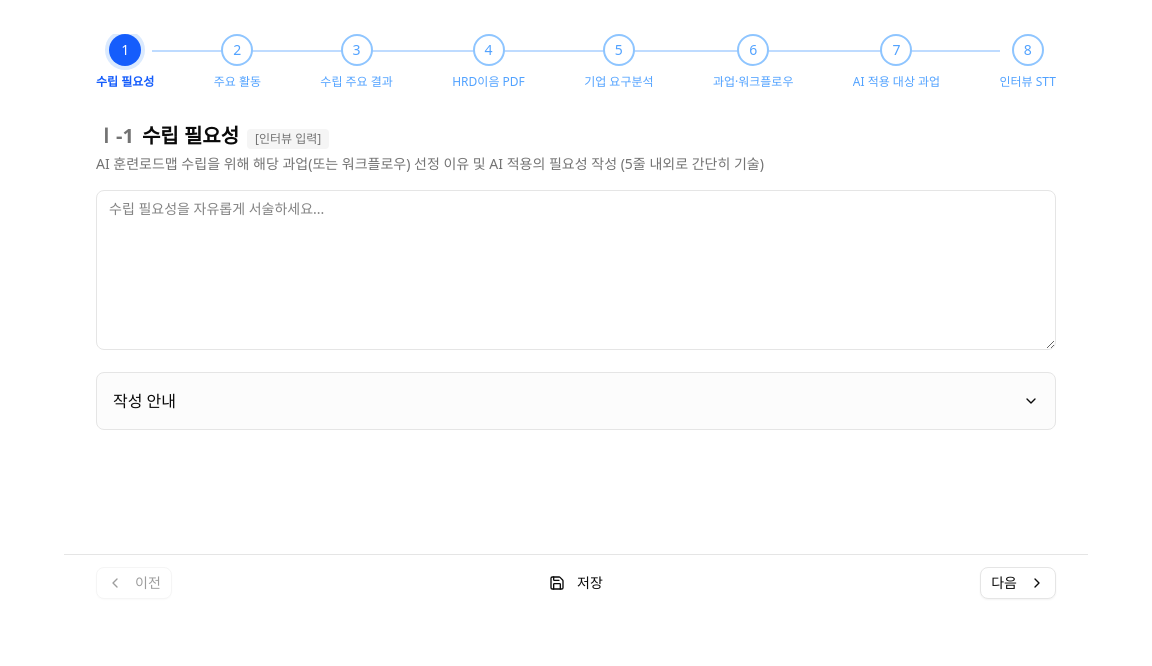
RoadmapInterviewClient › "다음" 클릭 시 두 번째 스텝(Ⅰ-2) 으로 이동하고 실제 StepPerformanceActivities 가 렌더된다
Click the button with aria-label "다음 스텝" at (1018, 583), box [980, 567, 1056, 599]
(page scrolled)
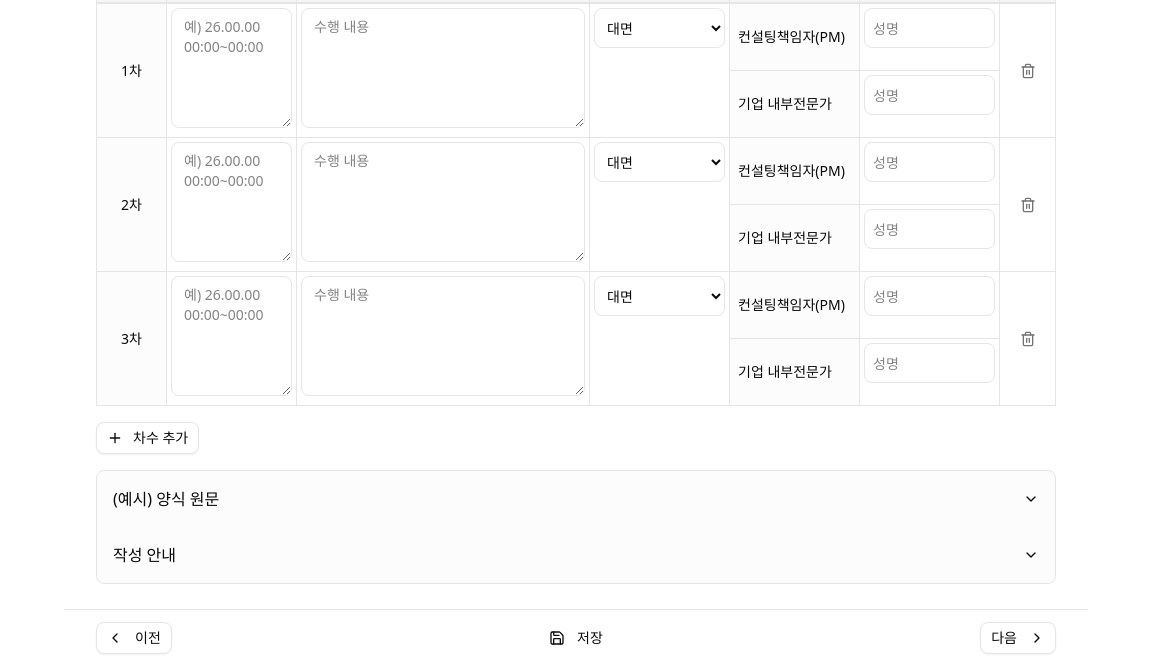
expect the column heading "1차" is shown: met, box [96, 4, 166, 138]
expect the column heading "2차" is shown: met, box [96, 138, 166, 272]
expect the column heading "3차" is shown: met, box [96, 272, 166, 406]
